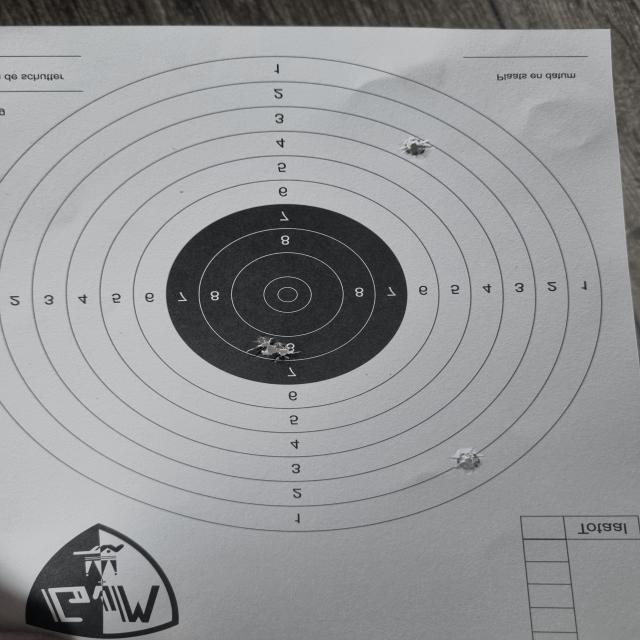2: (453, 449, 480, 473)
3: (401, 137, 434, 158)
8: (252, 337, 277, 360), (274, 344, 300, 362)
Target: (0, 55, 604, 535)
black_contour: (167, 205, 410, 385)
